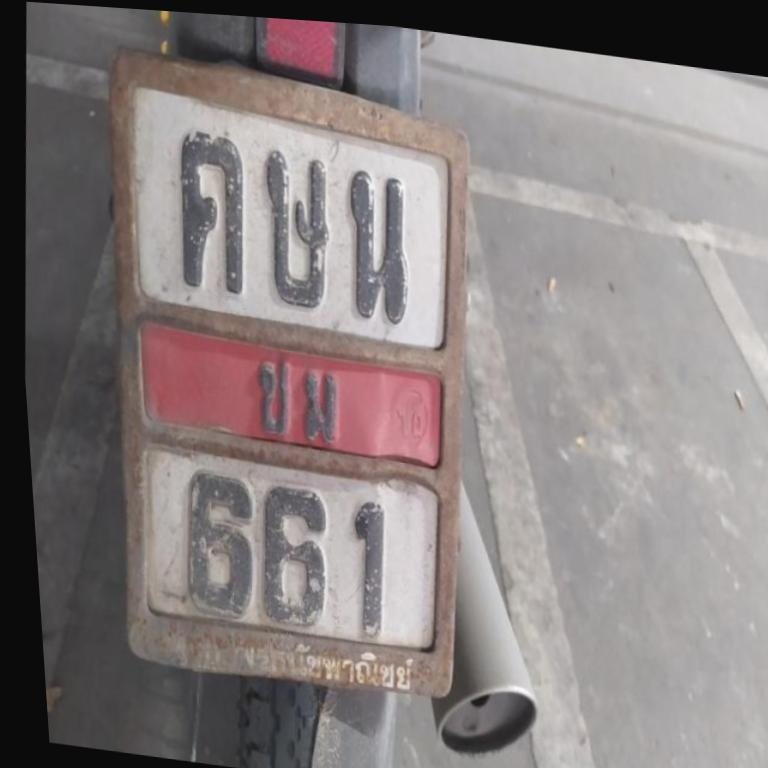license plate: (109, 48, 466, 768)
